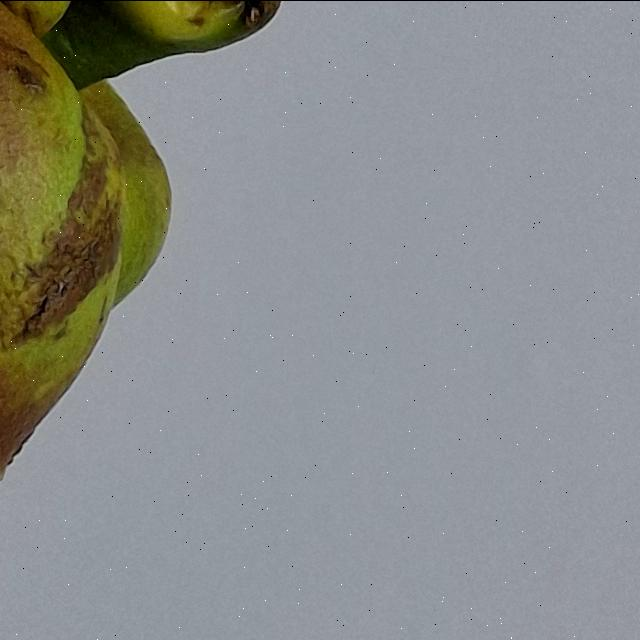mangosteen: (0, 0, 245, 640)
